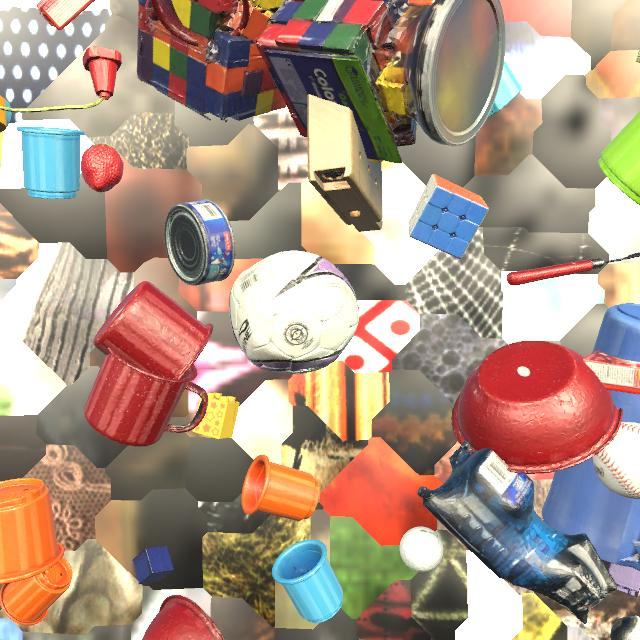ycb_007_tuna_fish_can: (164, 199, 235, 286)
ycb_009_gelatin_box: (583, 350, 640, 395), (37, 0, 95, 30)
ycb_012_strawberry: (81, 144, 124, 192)
